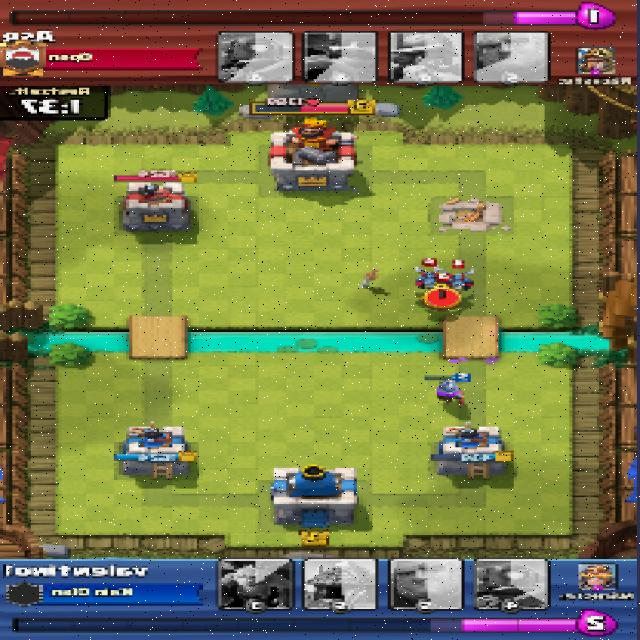Enemy-Minion: (446, 272, 473, 288), (416, 269, 438, 286)
Player-Musketeer: (432, 372, 470, 402)
